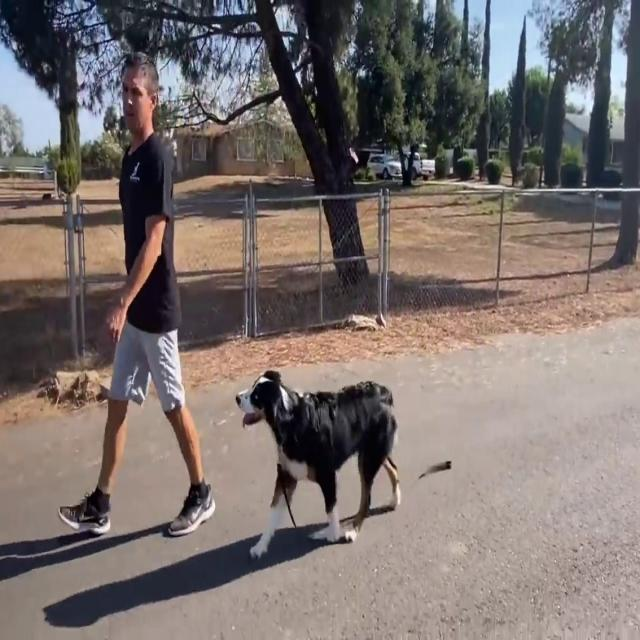Unleashed_Dog: (137, 319, 402, 562)
